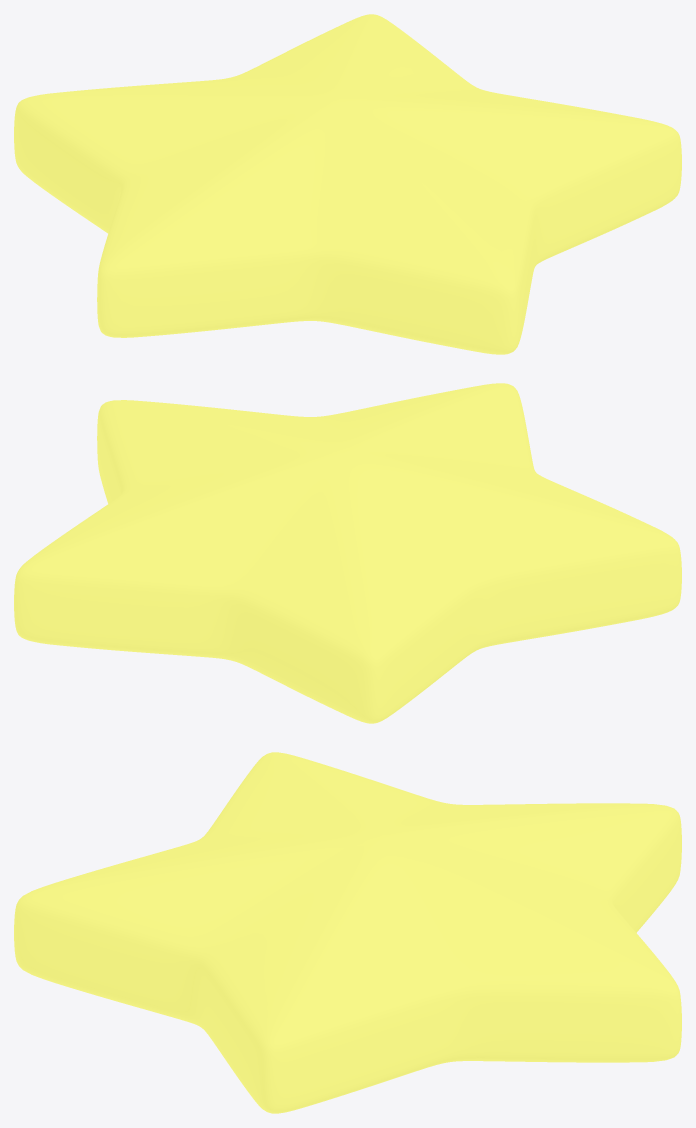
Rendered from star.glb.
3 renders of one model, top to bottom at view 1: azimuth 30°, elevation 25°; view 2: azimuth 150°, elevation 25°; view 3: azimuth 270°, elevation 25°, orthographic. The views are drawn at different scales.
Visible parts, largest first — view 1: Star; view 2: Star; view 3: Star.
Boxes of the visible parts, x1,y1,x2,y2 form: Star: (14,14,681,354); Star: (14,383,681,723); Star: (14,752,681,1113).
Size of the model in its own units: 1.82 by 0.5479 by 1.73.
